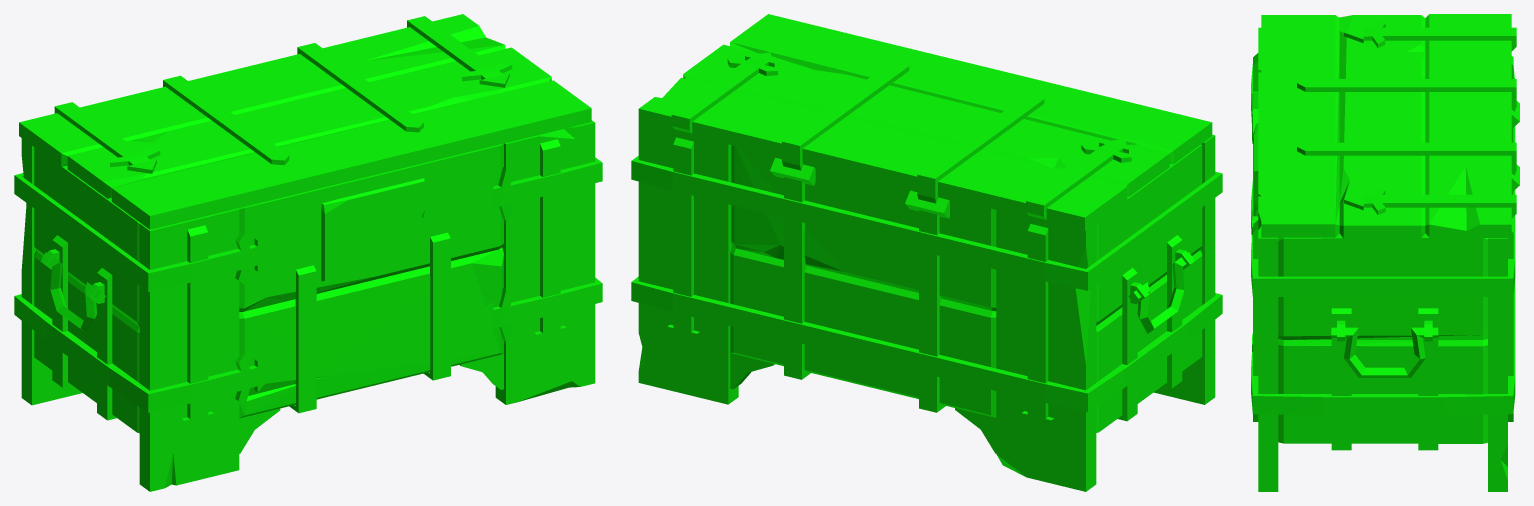
Rendered from SM_Trunk_Wooden_Small_Fantasy.fbx.
The picture shows the model from 3 angles, left to right: view 1: azimuth 30°, elevation 25°; view 2: azimuth 150°, elevation 25°; view 3: azimuth 270°, elevation 25°; orthographic projection. The views are drawn at different scales.
Visible parts, largest first — view 1: trunk-wooden-small-base-fantasy, trunk-wooden-small-lid-fantasy; view 2: trunk-wooden-small-base-fantasy, trunk-wooden-small-lid-fantasy; view 3: trunk-wooden-small-base-fantasy, trunk-wooden-small-lid-fantasy.
Part boxes in pixels (x1=…): trunk-wooden-small-base-fantasy: x1=14, y1=120, x2=602, y2=491; trunk-wooden-small-lid-fantasy: x1=19, y1=14, x2=591, y2=229; trunk-wooden-small-base-fantasy: x1=631, y1=122, x2=1222, y2=491; trunk-wooden-small-lid-fantasy: x1=638, y1=14, x2=1212, y2=231; trunk-wooden-small-base-fantasy: x1=1251, y1=27, x2=1519, y2=491; trunk-wooden-small-lid-fantasy: x1=1261, y1=14, x2=1516, y2=238.
Size of the model in its own units: 0.8159 by 0.4481 by 0.4025.
